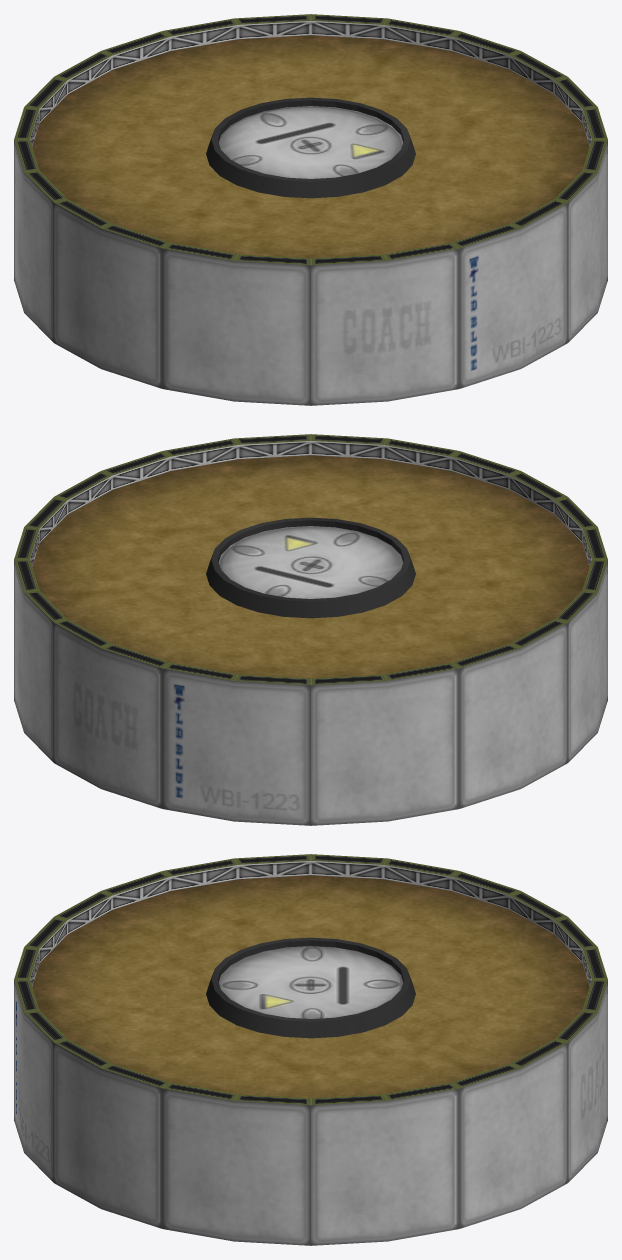
File: Coach225.FBX
3 views of the same model, one above another, from view 1: azimuth 30°, elevation 25°; view 2: azimuth 150°, elevation 25°; view 3: azimuth 270°, elevation 25° (orthographic).
Parts seen in each view (by area): view 1: Cylinder001, Foil; view 2: Cylinder001, Foil; view 3: Cylinder001, Foil.
Part boxes in pixels (x1,y1,x2,y2): Cylinder001: [14, 14, 607, 405]; Foil: [32, 35, 589, 258]; Cylinder001: [14, 434, 607, 825]; Foil: [32, 455, 589, 678]; Cylinder001: [14, 854, 607, 1245]; Foil: [32, 875, 589, 1098].
Size of what is drawn, in the model's own units: 1.87 by 0.49 by 1.87.
